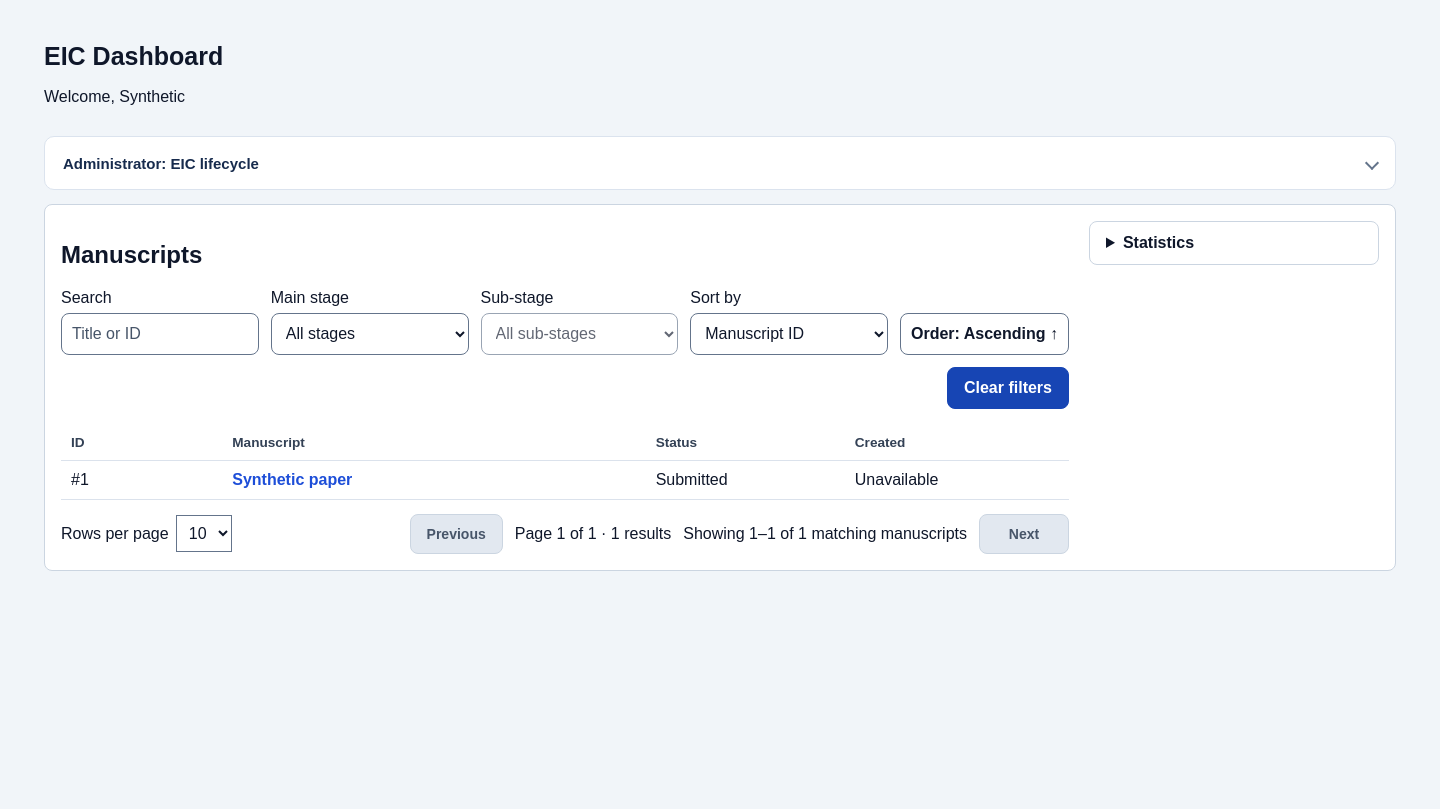
Test: keeps timeline browsing and actions available with one review round
Later steps or results of the test are not shown.
Click the button with aria-label "#1 Synthetic paper" at (292, 480), box [232, 471, 352, 489]
(page scrolled)
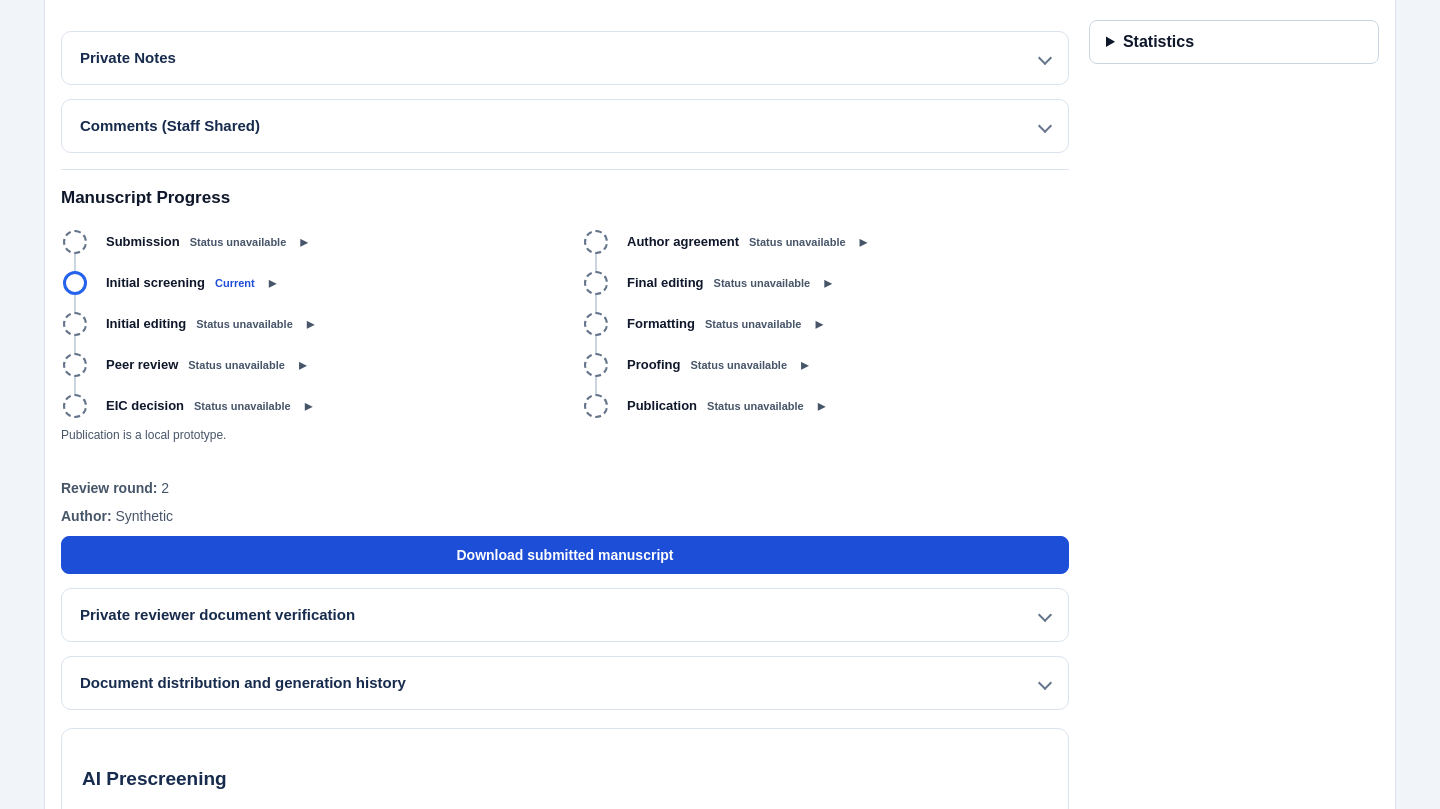
expect the text "Initial screening" is shown: met, box [106, 275, 205, 290]
expect the text "Review round:" is shown once: met, box [61, 480, 158, 496]
